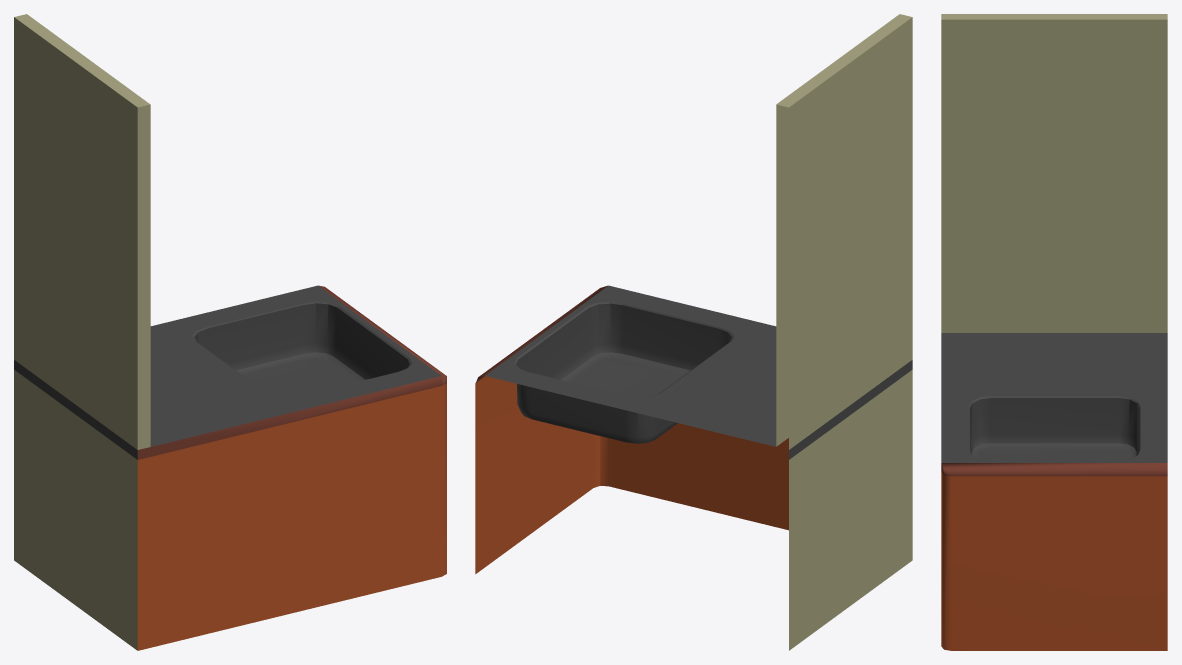
File: CounterSet_basinCntr.fbx
3 renders of one model, left to right at view 1: azimuth 30°, elevation 25°; view 2: azimuth 150°, elevation 25°; view 3: azimuth 270°, elevation 25°, orthographic. The views are drawn at different scales.
Visible parts, largest first — view 1: polySurface48; view 2: polySurface48; view 3: polySurface48.
Boxes of the visible parts, left/top/right/bottom form: polySurface48: left=14, top=14, right=446, bottom=650; polySurface48: left=475, top=14, right=912, bottom=650; polySurface48: left=941, top=14, right=1167, bottom=650.
Size of the model in its own units: 3507 by 5808 by 2395.
